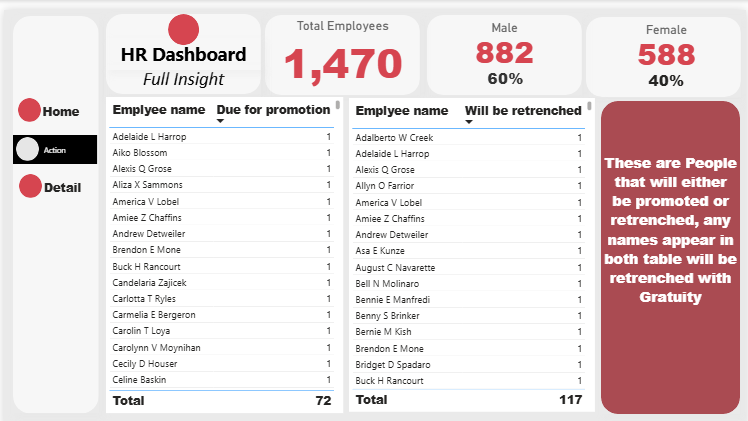

The page's visual inventory and layout, read from the dashboard file:
{"tool":"powerbi","page":{"name":"Action","canvas":[1280,720],"ordinal":1},"visuals":[{"type":"shape","box":[15.1,10.1,147.8,685.4],"z":0},{"type":"shape","box":[176.4,6.7,267.1,137.7],"z":1000},{"type":"shape","box":[450.2,8.4,267.1,137.7],"z":2000},{"type":"shape","box":[729,8.4,267.1,137.7],"z":3000},{"type":"shape","box":[1002.8,11.8,267.1,137.7],"z":4000},{"type":"textbox","box":[176.4,94.1,267.1,55.4],"z":5000},{"type":"textbox","box":[176.4,48.7,267.1,55.4],"z":6000},{"type":"shape","box":[282.2,6.7,53.8,53.8],"z":7000},{"type":"card","title":"Total Employees","fields":{"Values":["All Measures.Total Emp"]},"box":[468.7,13.4,230.1,122.6],"z":8000},{"type":"card","title":"Male","fields":{"Values":["All Measures.Male"]},"box":[806.6,17.4,112.5,82.3],"z":9000},{"type":"card","title":"Male","fields":{"Values":["All Measures.% male"]},"box":[774.7,49.3,181.4,136.1],"z":10000},{"type":"card","title":"Female","fields":{"Values":["All Measures.Female"]},"box":[1085.3,21.2,115.9,82.3],"z":11000},{"type":"card","title":"Male","fields":{"Values":["All Measures.% female"]},"box":[1070.7,56.9,143.1,131],"z":12000},{"type":"tableEx","fields":{"Values":["HR Analytics Data.Emplyee name","All Measures.Due for promotion"]},"box":[175.9,150,408.6,544.8],"z":13000},{"type":"tableEx","fields":{"Values":["HR Analytics Data.Emplyee name","All Measures.Will be retrenched"]},"box":[594.8,151.7,424.1,541.4],"z":14000},{"type":"group","id":"g1","title":"Group 3","box":[25.9,281,150,50],"z":15000},{"type":"pageNavigator","box":[24.1,150,148.3,50],"z":16000},{"type":"pageNavigator","box":[15.5,215.5,144.8,50],"z":17000},{"type":"shape","box":[20.7,219,39.7,41.4],"z":18000},{"type":"shape","box":[24.1,151.7,39.7,41.4],"z":19000},{"type":"shape","box":[1029.3,156.9,239.7,539.7],"z":20000},{"type":"textbox","box":[1029.3,241.4,239.7,279.3],"z":20001},{"type":"pageNavigator","box":[25.9,281,150,50],"z":33000,"group":"g1"},{"type":"shape","box":[25.9,282.7,39.7,41.4],"z":34001,"group":"g1"}]}

Visuals, with their boxes in screenshot pixels (x1, y1, x2, y2), scaled from the page's 1280x720 canvas onto the 748x421 screenshot:
shape: bbox=(9, 6, 95, 407)
shape: bbox=(103, 4, 259, 84)
shape: bbox=(263, 5, 419, 85)
shape: bbox=(426, 5, 582, 85)
shape: bbox=(586, 7, 742, 87)
textbox: bbox=(103, 55, 259, 87)
textbox: bbox=(103, 28, 259, 61)
shape: bbox=(165, 4, 196, 35)
"Total Employees" card: bbox=(274, 8, 408, 80)
"Male" card: bbox=(471, 10, 537, 58)
"Male" card: bbox=(453, 29, 559, 108)
"Female" card: bbox=(634, 12, 702, 61)
"Male" card: bbox=(626, 33, 709, 110)
tableEx - HR Analytics Data.Emplyee name x All Measures.Due for promotion: bbox=(103, 88, 342, 406)
tableEx - HR Analytics Data.Emplyee name x All Measures.Will be retrenched: bbox=(348, 89, 595, 405)
"Group 3" group: bbox=(15, 164, 103, 194)
pageNavigator: bbox=(14, 88, 101, 117)
pageNavigator: bbox=(9, 126, 94, 155)
shape: bbox=(12, 128, 35, 152)
shape: bbox=(14, 89, 37, 113)
shape: bbox=(601, 92, 742, 407)
textbox: bbox=(601, 141, 742, 304)
pageNavigator: bbox=(15, 164, 103, 194)
shape: bbox=(15, 165, 38, 190)
